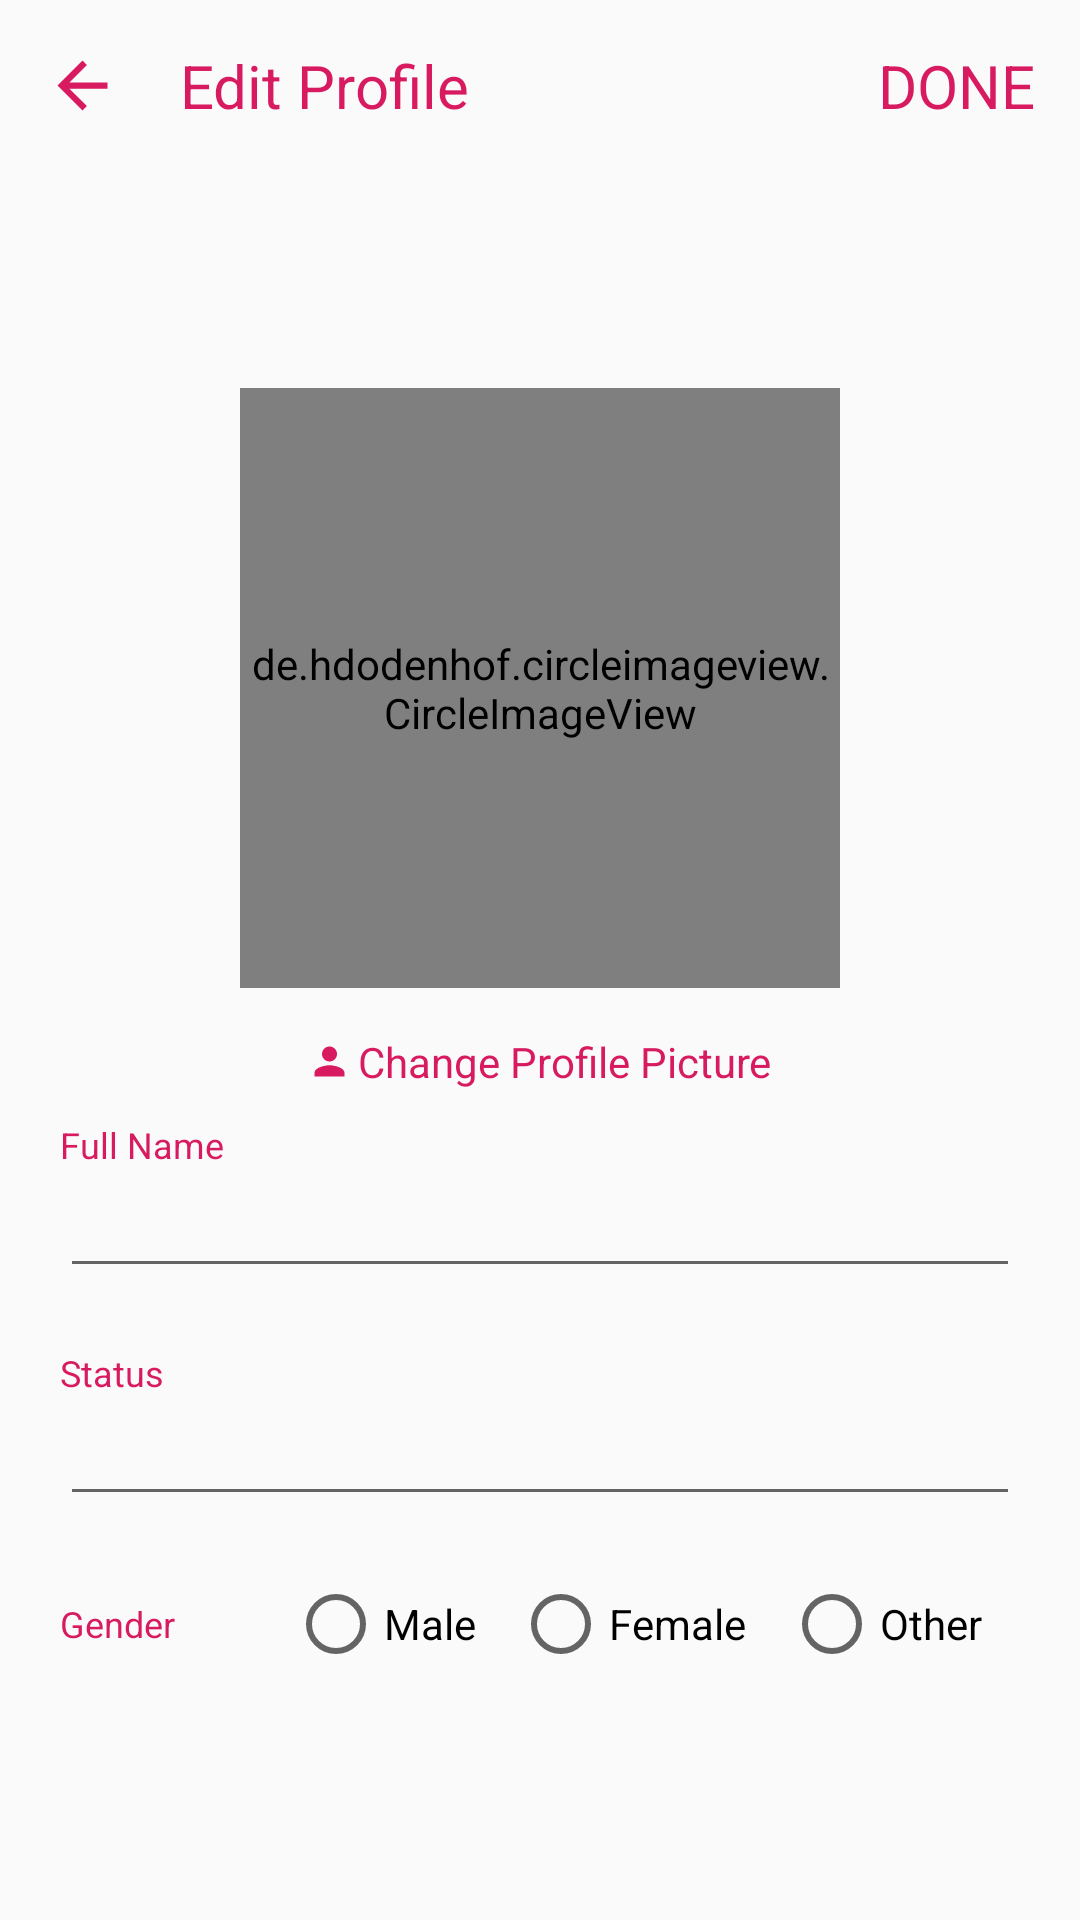

Locate icon controls on the screen. Image size 1080*1920, boxes as (x1, y1, x2, y2).
arrow: (57, 60, 108, 111)
person: (314, 1046, 345, 1077)
